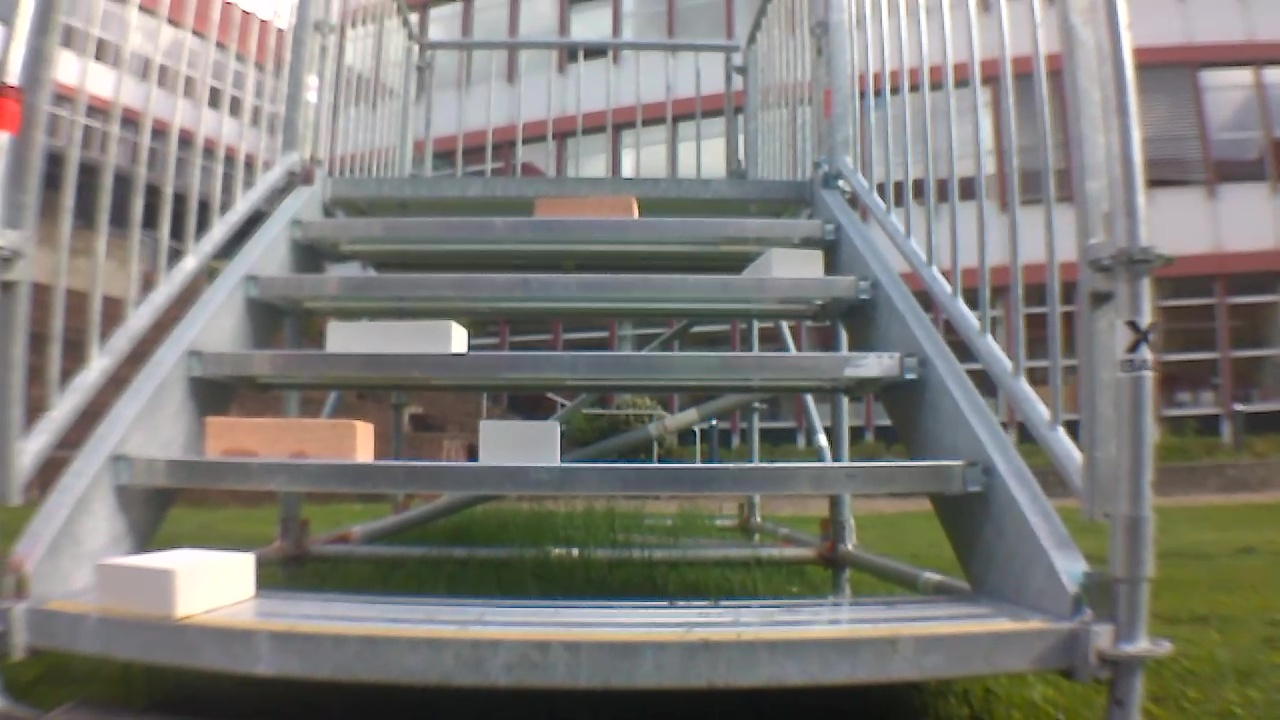brick: (92, 549, 256, 619), (207, 418, 374, 460), (327, 321, 466, 351), (480, 420, 559, 464), (535, 196, 638, 219), (746, 247, 823, 276)
edge: (29, 608, 1073, 686), (116, 457, 990, 492), (183, 351, 923, 377), (239, 273, 876, 298), (293, 217, 837, 238), (324, 178, 816, 198)
stairs: (6, 1, 1174, 709)
steps: (23, 166, 1077, 695)
